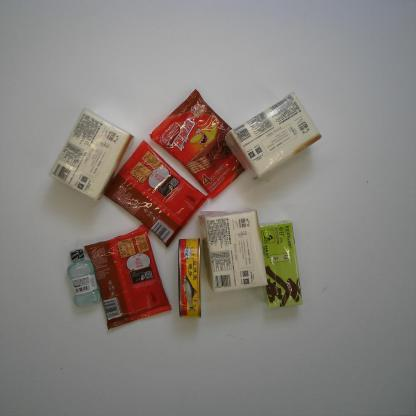Canned Food: (178, 237, 202, 320)
Dessert: (149, 88, 254, 201), (104, 140, 209, 249), (84, 224, 172, 330)
Instant Drink: (258, 219, 302, 309)
Personal Hygiene: (67, 248, 102, 307)
Tissue: (224, 92, 321, 182), (48, 106, 134, 202), (197, 207, 269, 293)
